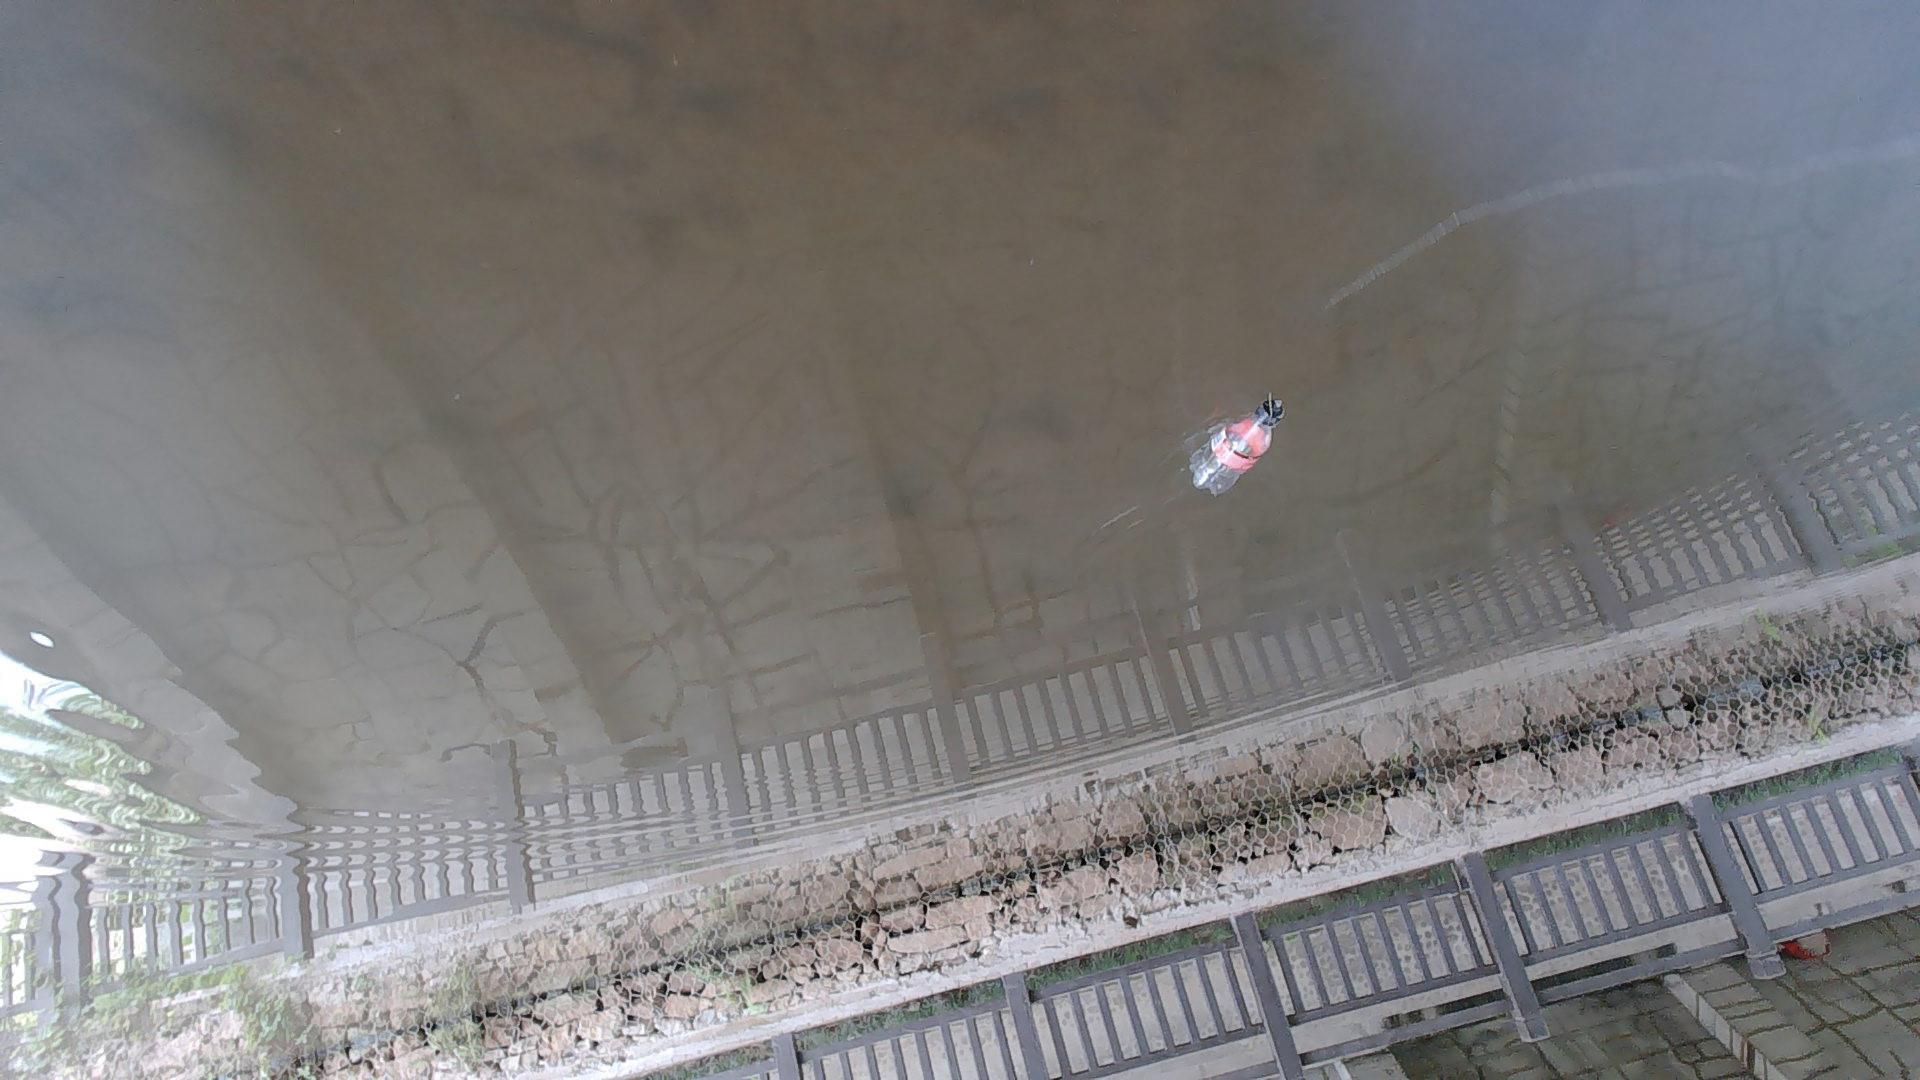Plastic: (1185, 401, 1292, 497)
